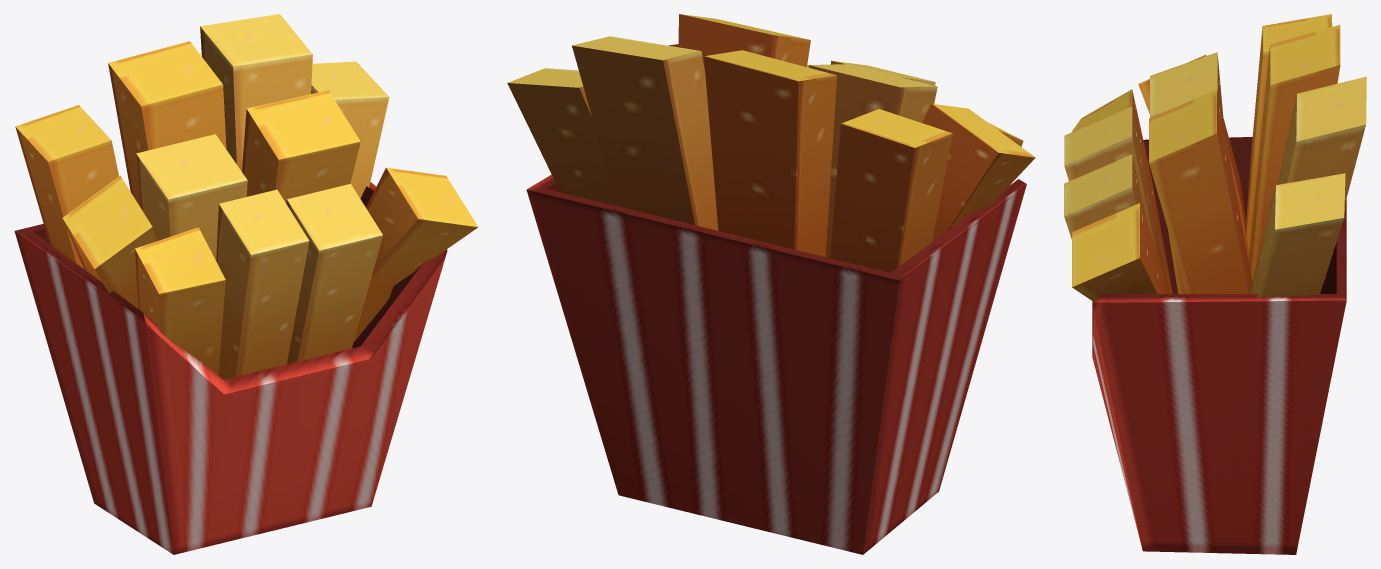
Rendered from fried pototo.FBX.
3 views of the same model, side by side, from view 1: azimuth 30°, elevation 25°; view 2: azimuth 150°, elevation 25°; view 3: azimuth 270°, elevation 25° (orthographic). The views are drawn at different scales.
Visible parts, largest first — view 1: fried potato; view 2: fried potato; view 3: fried potato.
Boxes of the visible parts, x1,y1,x2,y2 form: fried potato: [14, 14, 478, 554]; fried potato: [507, 14, 1035, 554]; fried potato: [1064, 14, 1366, 554].
Size of the model in its own units: 3.23 by 3.6 by 2.24.
